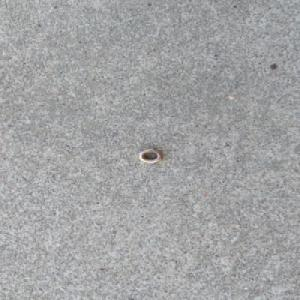Nut: (138, 148, 163, 163)
